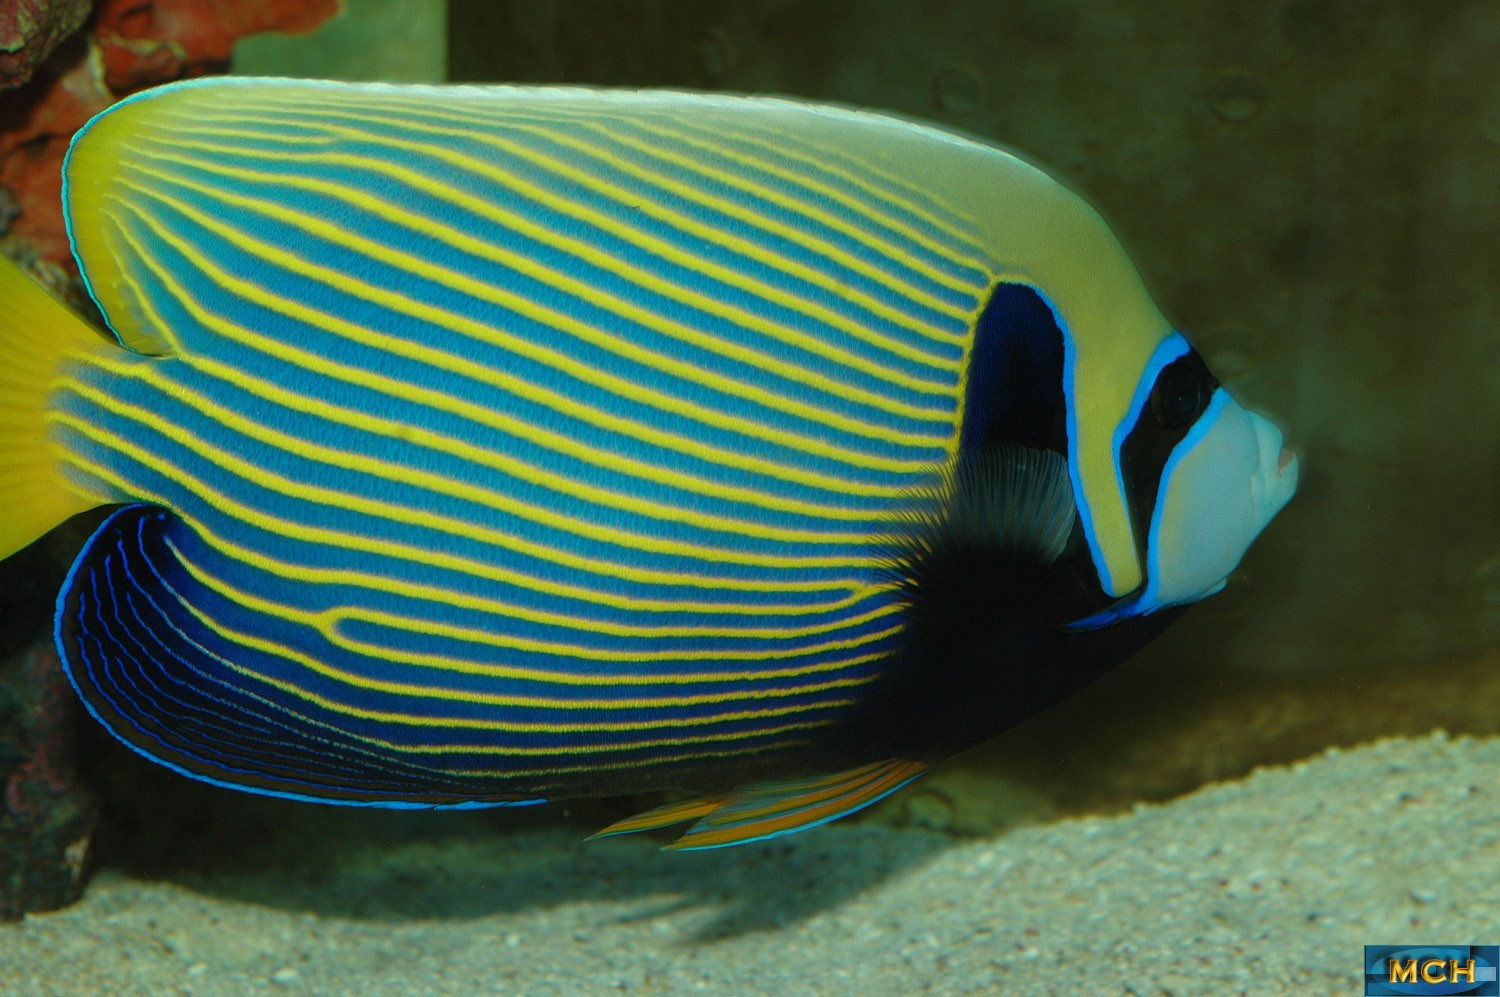Pomacanthus_imperator: (1, 60, 1342, 870)
